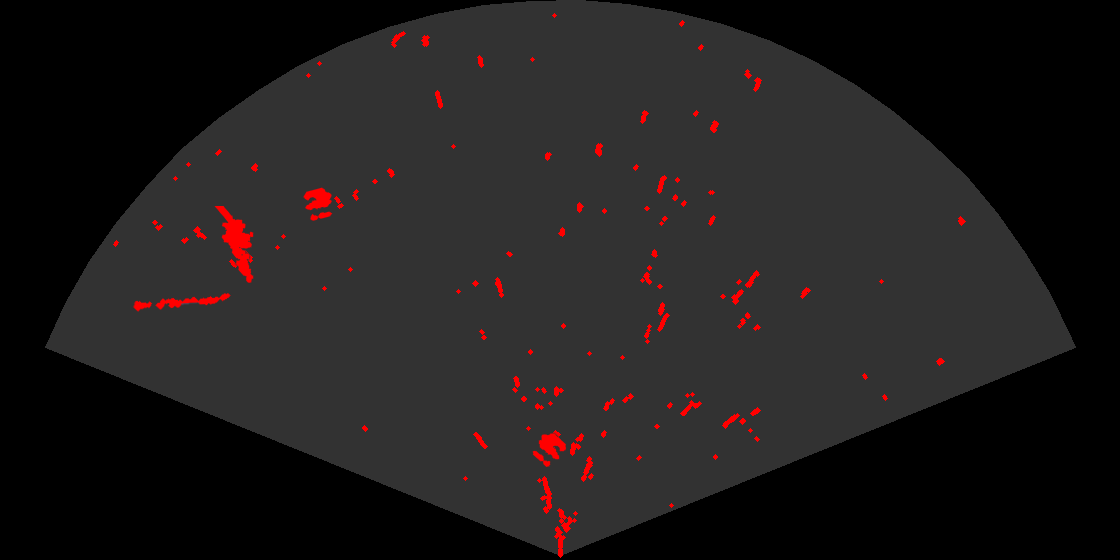ball: (531, 432, 568, 469), (302, 186, 334, 222)
chain: (131, 292, 232, 313)
frogman: (213, 206, 255, 285)
